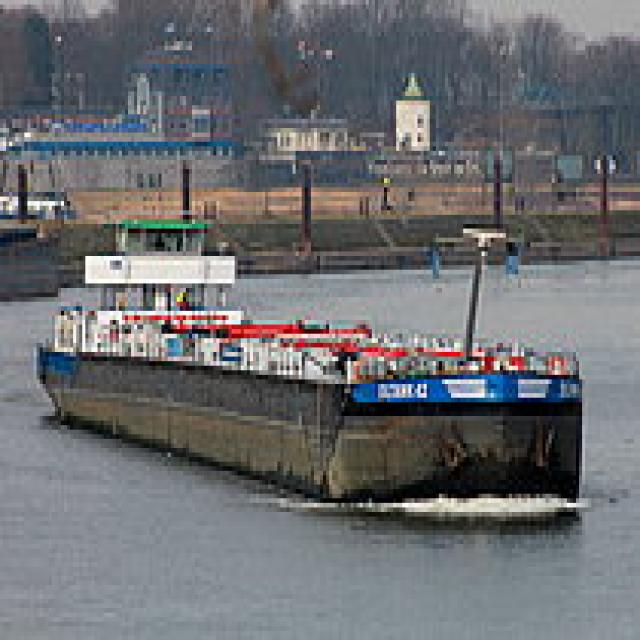Tanker: (31, 210, 582, 494)
